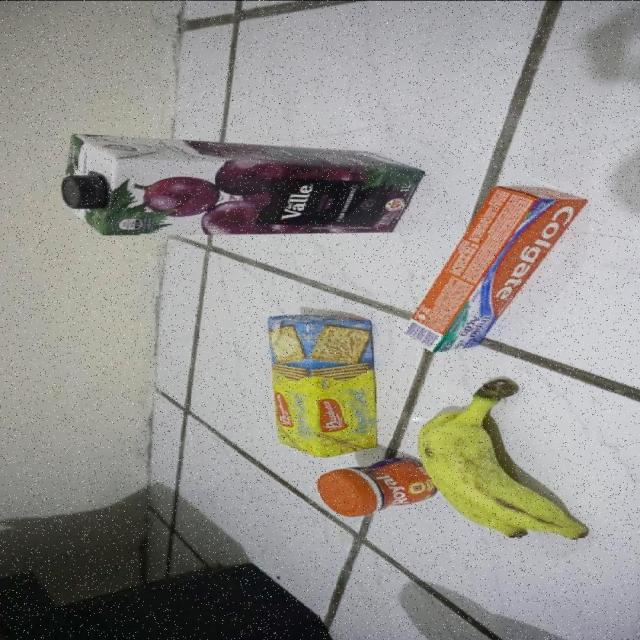Banana: (430, 380, 572, 546)
Cracker: (277, 310, 376, 456)
Toothpaste: (407, 182, 571, 352)
Yeast: (321, 452, 427, 518)
